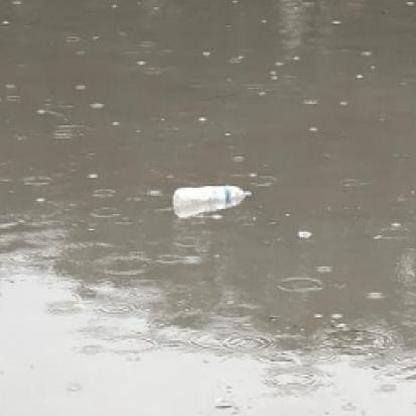plastic bottle: (173, 186, 253, 216)
